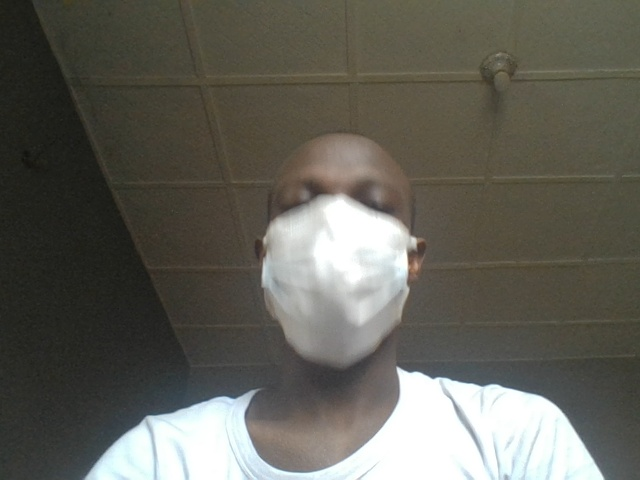Mask: (258, 198, 432, 365)
